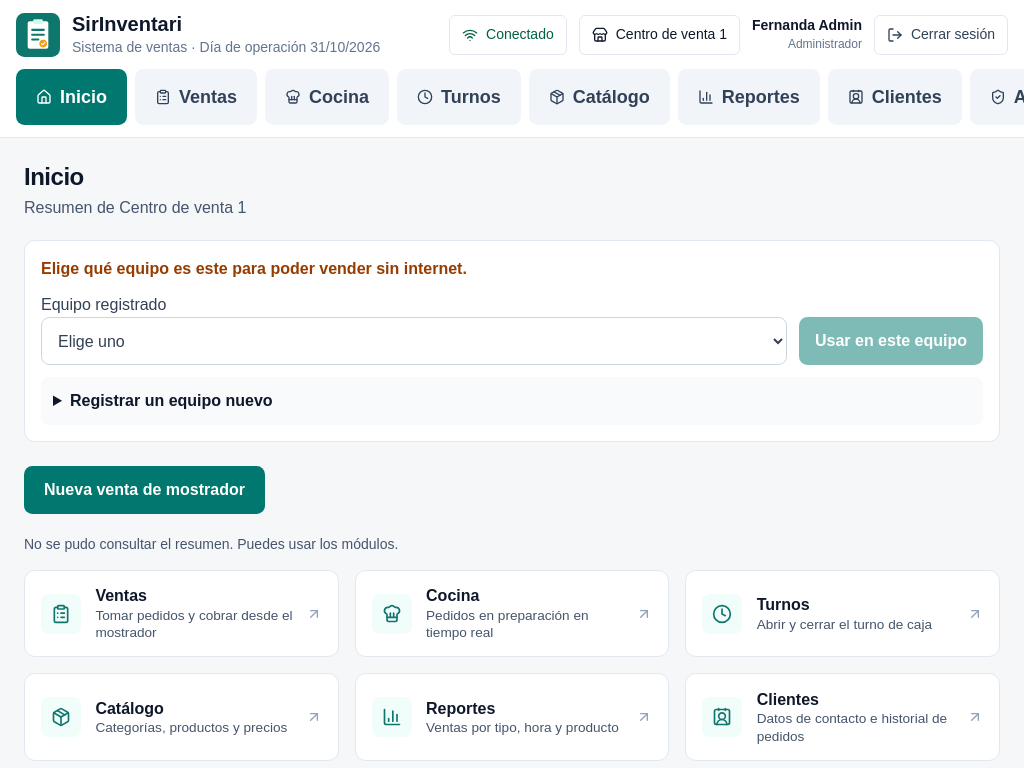
Login (Tarea 4) › cerrar sesión vuelve a la pantalla de login
This screenshot has width=1024, height=768.
Step 1. Click the button "Cerrar sesión" → x=941, y=34, box [874,14,1008,54]
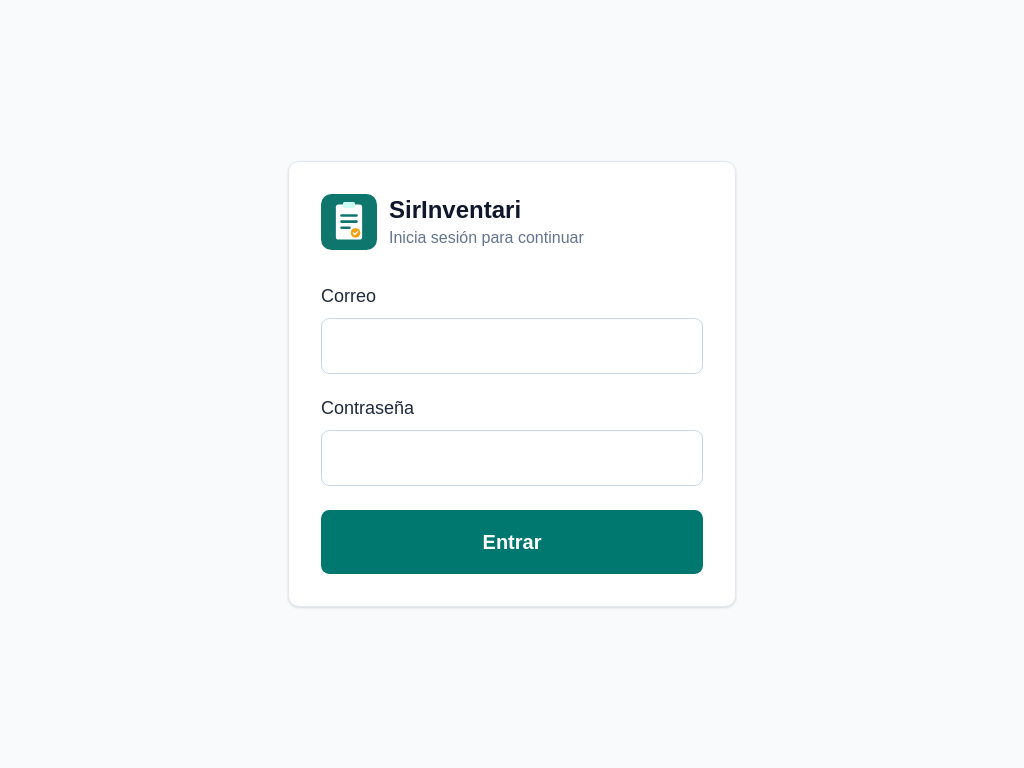
expect the button "Entrar" is shown: met, box [321,510,703,574]
